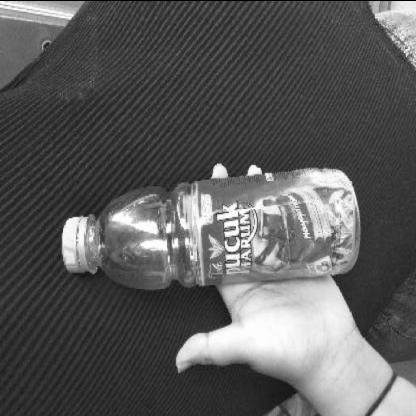plastic_bottles: (60, 162, 364, 290)
